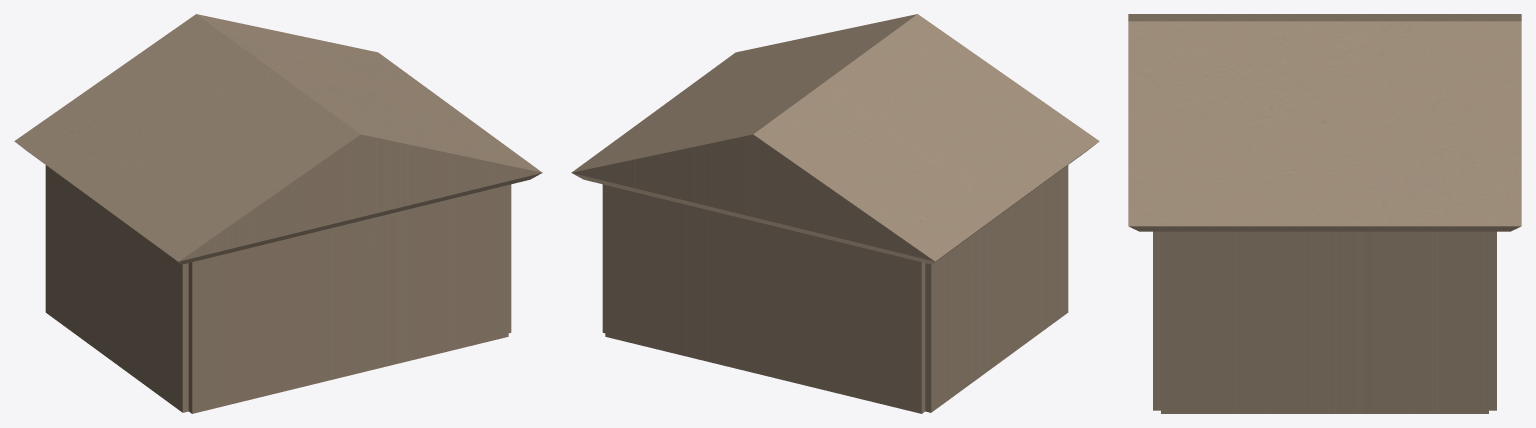
File: thatched_hut.glb
The picture shows the model from 3 angles, left to right: view 1: azimuth 30°, elevation 25°; view 2: azimuth 150°, elevation 25°; view 3: azimuth 270°, elevation 25°; orthographic projection. The views are drawn at different scales.
Parts seen in each view (by area): view 1: ThatchedHut; view 2: ThatchedHut; view 3: ThatchedHut.
Part boxes in pixels (x1,y1,x2,y2): ThatchedHut: (14,14,542,413); ThatchedHut: (571,14,1099,413); ThatchedHut: (1128,14,1521,413).
Bounding box in the file's own units: 4.6 × 3 × 3.6.
Materials: 1 (1 with a texture image).
